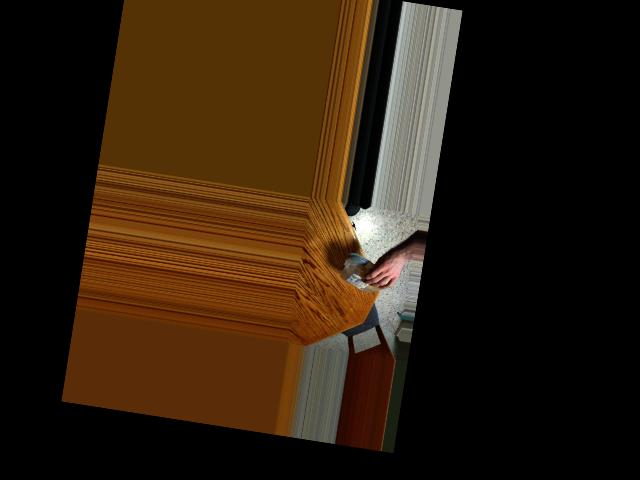cheese: (344, 257, 384, 291)
